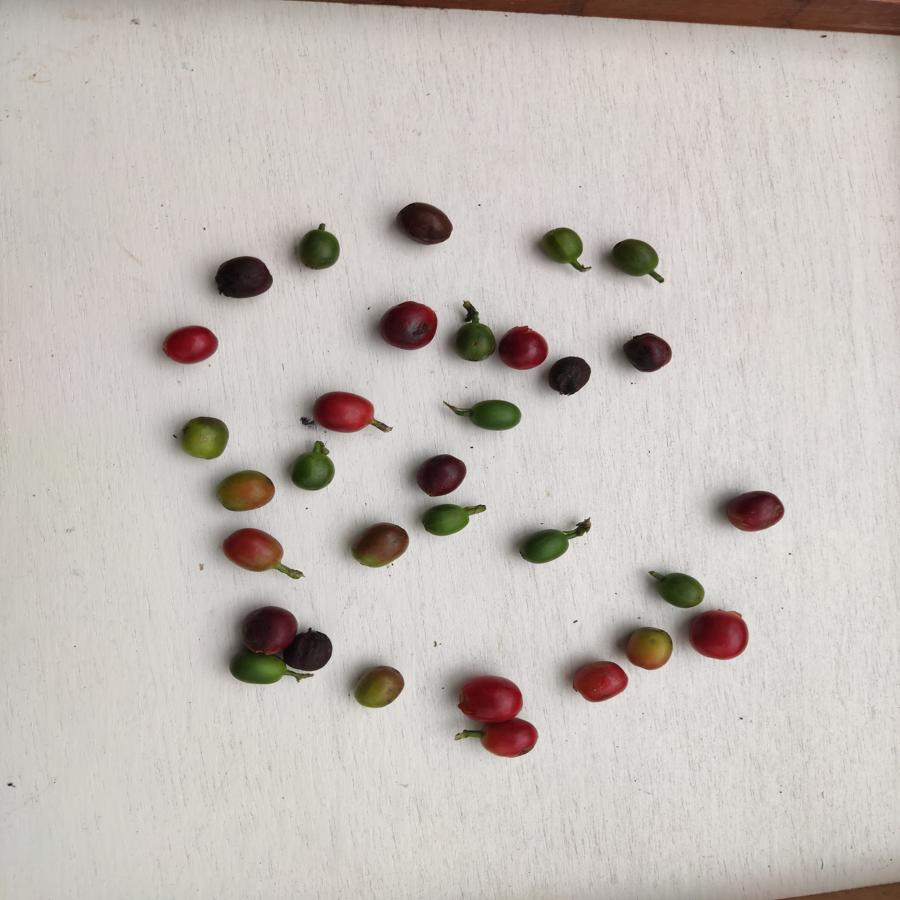Inmaduro: (606, 234, 665, 284), (285, 448, 337, 496), (515, 526, 567, 571), (471, 395, 525, 437), (649, 567, 704, 608), (452, 319, 497, 367), (539, 225, 586, 270), (297, 226, 342, 271), (221, 654, 284, 684), (423, 500, 475, 535)
Maduro: (689, 605, 749, 663), (312, 389, 380, 436), (457, 677, 524, 723), (569, 663, 630, 711), (158, 326, 219, 370), (481, 720, 535, 764)
Pinton: (218, 524, 303, 579), (351, 517, 412, 571), (208, 467, 275, 516), (624, 622, 683, 674), (175, 416, 232, 467), (347, 662, 405, 710)
Sobremaduro: (212, 252, 273, 303), (378, 296, 437, 348), (727, 488, 786, 539), (393, 199, 456, 242), (497, 320, 551, 370), (241, 604, 292, 654), (414, 451, 462, 501), (623, 330, 674, 373), (286, 627, 331, 674), (548, 355, 594, 398)
